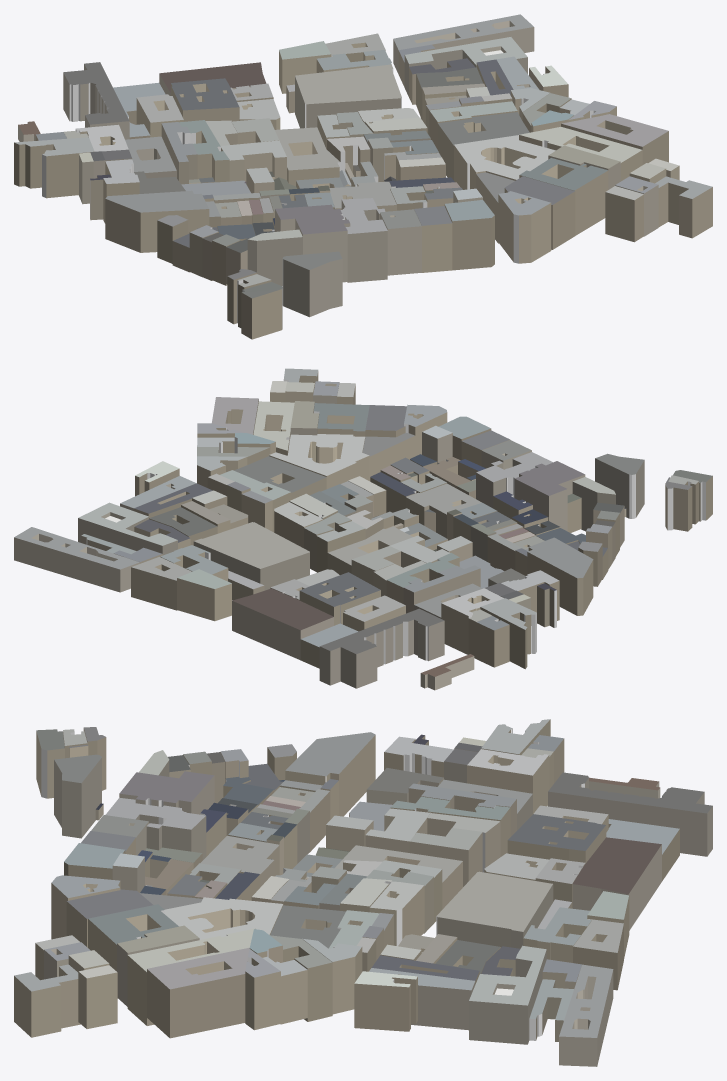
The picture shows the model from 3 angles, top to bottom: view 1: azimuth 30°, elevation 25°; view 2: azimuth 150°, elevation 25°; view 3: azimuth 270°, elevation 25°; orthographic projection. The views are drawn at different scales.
Parts seen in each view (by area): view 1: tuile; view 2: tuile; view 3: tuile.
Part boxes in pixels (x1,y1,x2,y2): tuile: (14, 14, 712, 339); tuile: (14, 368, 712, 690); tuile: (14, 719, 712, 1066).
Bounding box in the file's own units: 299 × 32.67 × 293.
